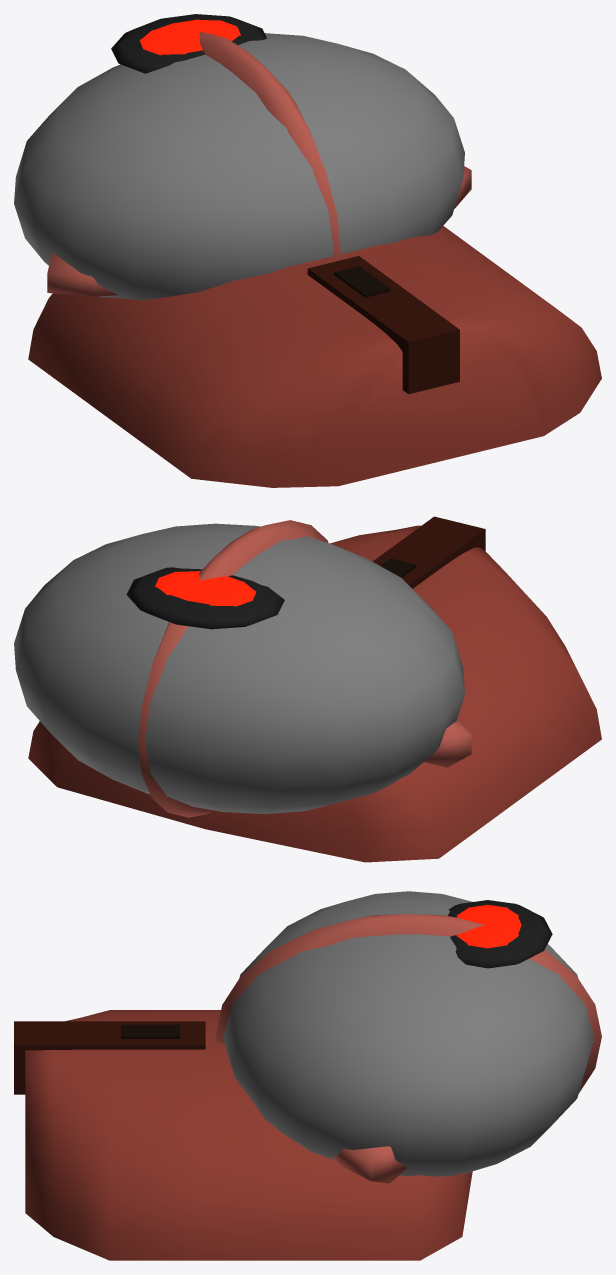
File: newshc-77-f4.glb
3 views of the same model, one above another, from view 1: azimuth 30°, elevation 25°; view 2: azimuth 150°, elevation 25°; view 3: azimuth 270°, elevation 25° (orthographic). The views are drawn at different scales.
Parts seen in each view (by area): view 1: newshc-77-f4; view 2: newshc-77-f4; view 3: newshc-77-f4.
Part boxes in pixels (x1,y1,x2,y2): newshc-77-f4: (14,14,601,487); newshc-77-f4: (14,516,601,862); newshc-77-f4: (14,891,601,1260).
Bounding box in the file's own units: 1.38 × 0.82 × 1.74.
